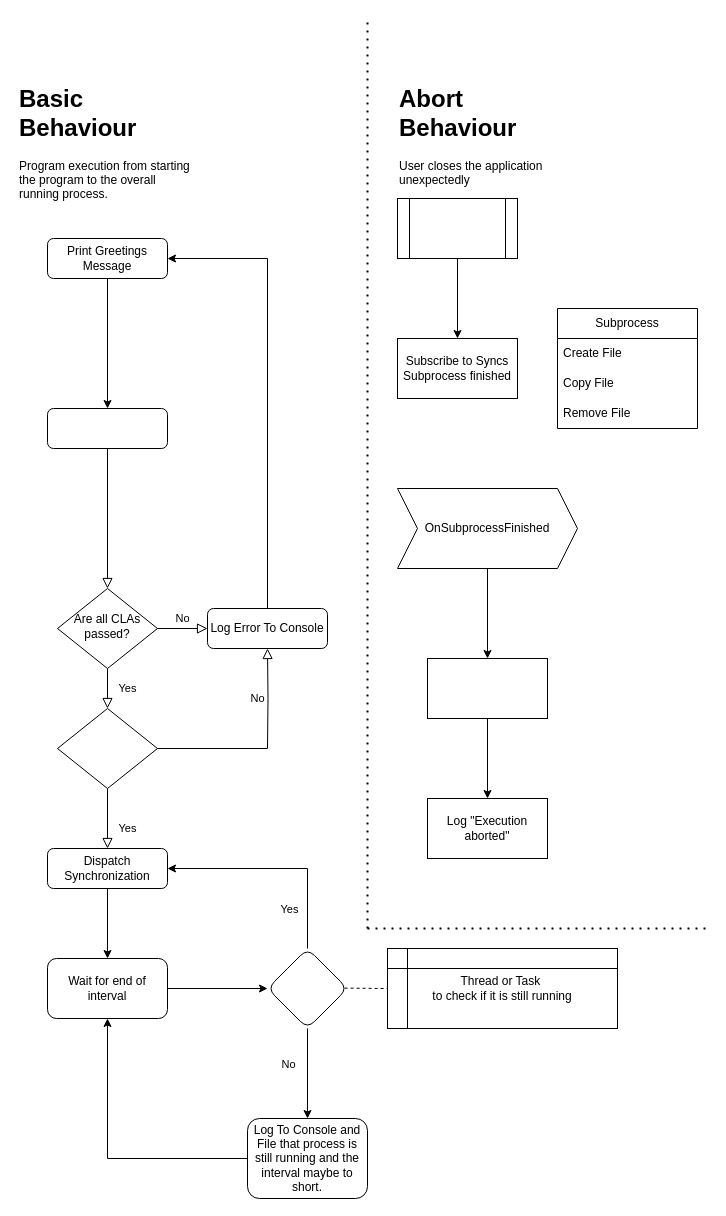
The diagram is 726 pixels wide and 1216 high, and some of its shapes have lost their labels. Each missing label, with the centre of its shape:
CLAs Valid?: [107,748]
Is Sync Process done?: [307,988]
Stop Synchronization Process: [487,688]
User aborts program execution: [457,228]
Validate CLAs: [107,428]
